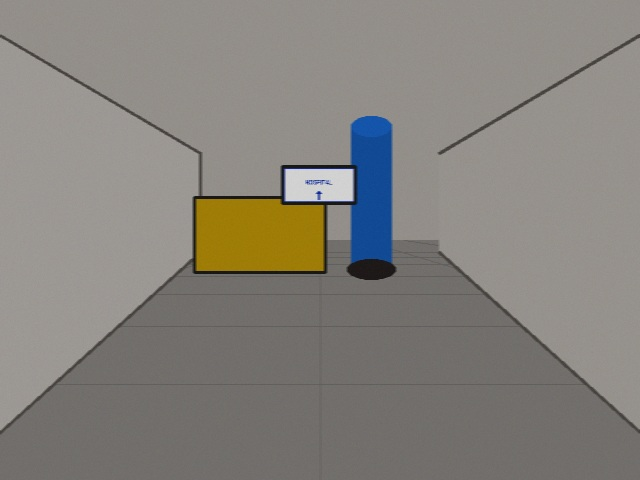directional_sign: (282, 166, 355, 203)
forklift: (194, 197, 325, 272)
person: (351, 126, 391, 269)
